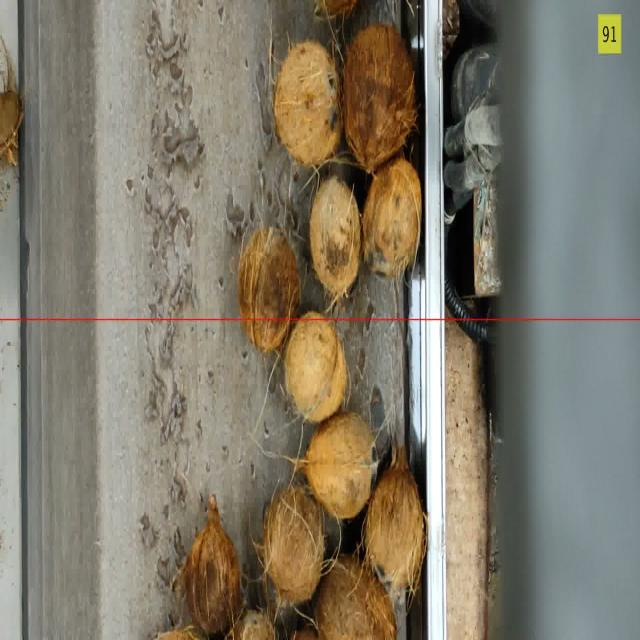Coconut-Conveyor-Belt: (342, 24, 416, 173), (365, 447, 427, 593), (181, 495, 242, 634), (277, 41, 343, 167), (299, 412, 376, 519), (238, 227, 300, 351), (260, 486, 324, 605), (362, 156, 422, 277), (285, 312, 347, 422), (315, 555, 396, 639), (310, 177, 361, 301), (0, 37, 23, 166), (227, 610, 276, 639), (315, 0, 357, 18), (156, 626, 205, 639), (292, 630, 317, 639)
